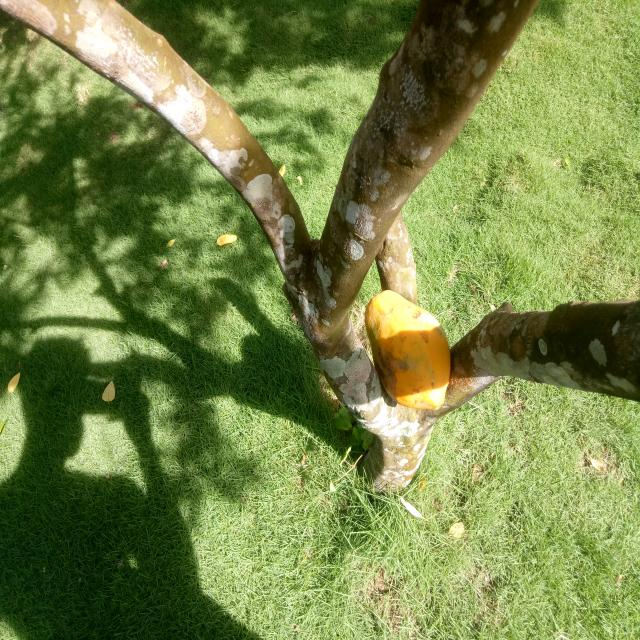Pepaya rippen: (368, 286, 453, 424)
